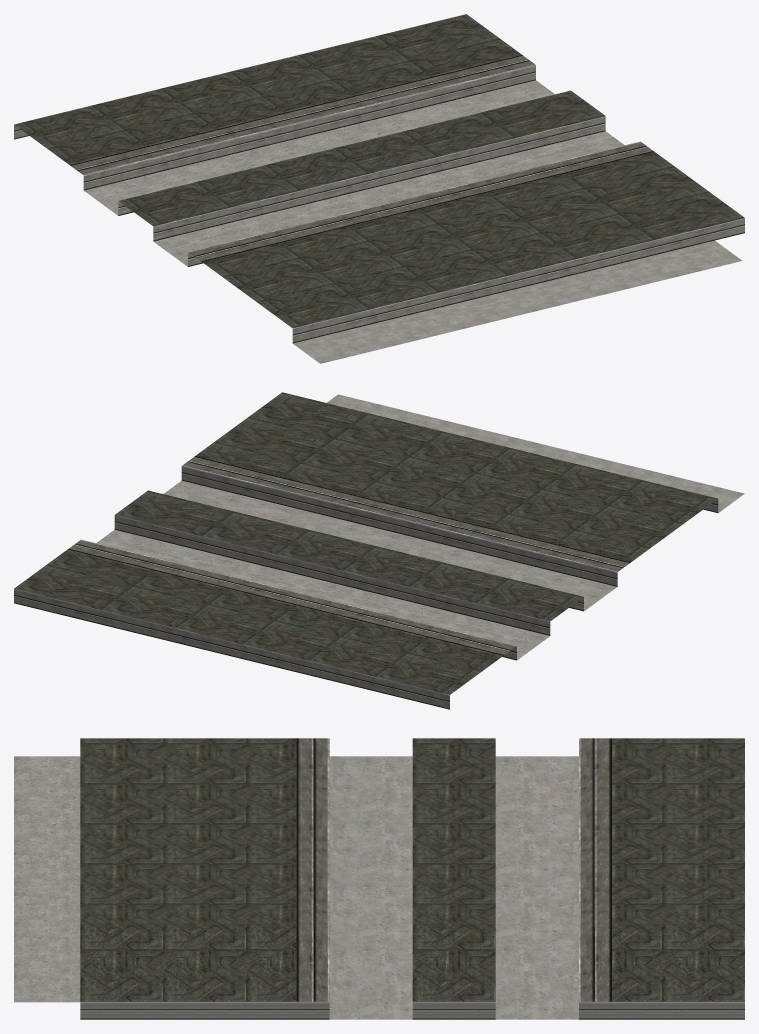
Rendered from DWARF_PALACE_WATER_ROOM_FLOORC01.fbx.
3 views of the same model, one above another, from view 1: azimuth 30°, elevation 25°; view 2: azimuth 150°, elevation 25°; view 3: azimuth 270°, elevation 25° (orthographic). The views are drawn at different scales.
Visible parts, largest first — view 1: DWARF_PALACE_WATER_ROOM_FLOORC01; view 2: DWARF_PALACE_WATER_ROOM_FLOORC01; view 3: DWARF_PALACE_WATER_ROOM_FLOORC01.
Part boxes in pixels (x1,y1,x2,y2): DWARF_PALACE_WATER_ROOM_FLOORC01: (14,14,744,363); DWARF_PALACE_WATER_ROOM_FLOORC01: (14,392,744,709); DWARF_PALACE_WATER_ROOM_FLOORC01: (14,738,744,1019).
Size of the model in its own units: 187581 by 6024 by 219977.
4 materials, 4 textured.
